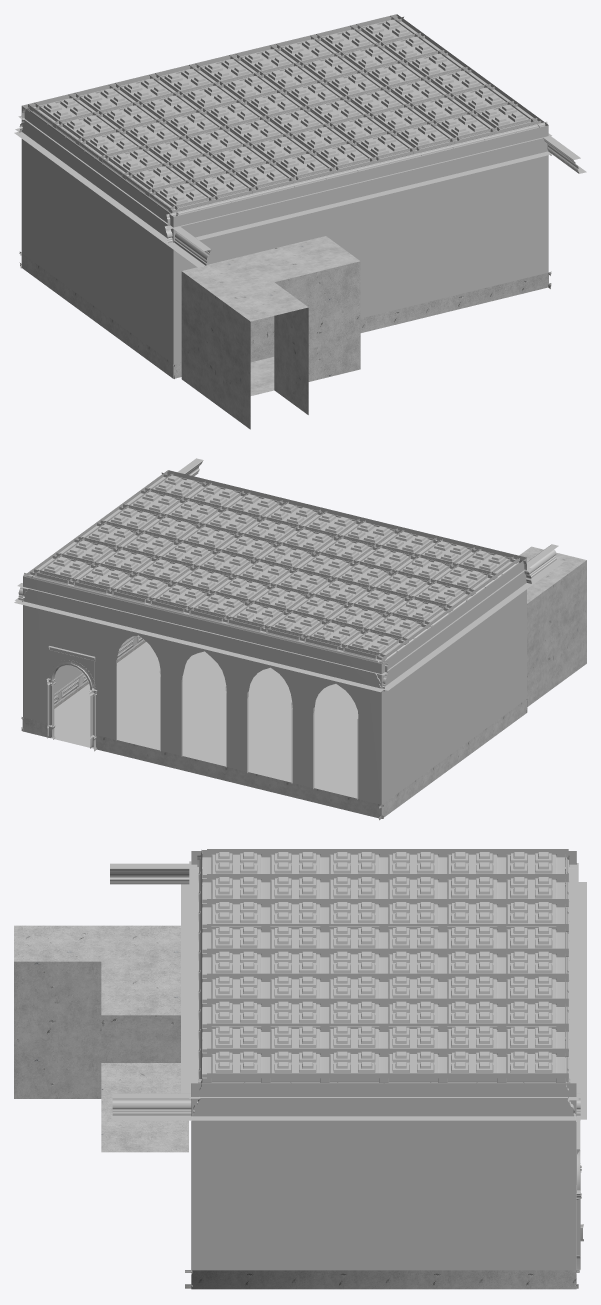
The model's file is backup.fbx.
The picture shows the model from 3 angles, top to bottom: view 1: azimuth 30°, elevation 25°; view 2: azimuth 150°, elevation 25°; view 3: azimuth 270°, elevation 25°; orthographic projection. The views are drawn at different scales.
Parts seen in each view (by area): view 1: LODGroup_1_MainMesh_1_SubMesh_2, LODGroup_1_MainMesh_1_SubMesh_1, LODGroup_1_MainMesh_1_SubMesh_4, LODGroup_1_MainMesh_1_SubMesh_7; view 2: LODGroup_1_MainMesh_1_SubMesh_1, LODGroup_1_MainMesh_1_SubMesh_2, LODGroup_1_MainMesh_1_SubMesh_8, LODGroup_1_MainMesh_1_SubMesh_4, LODGroup_1_MainMesh_1_SubMesh_3, LODGroup_1_MainMesh_1_SubMesh_7, LODGroup_1_MainMesh_1_SubMesh_5, LODGroup_1_MainMesh_1_SubMesh_6, LODGroup_1_MainMesh_1_SubMesh_10; view 3: LODGroup_1_MainMesh_1_SubMesh_1, LODGroup_1_MainMesh_1_SubMesh_2, LODGroup_1_MainMesh_1_SubMesh_4, LODGroup_1_MainMesh_1_SubMesh_7.
Boxes of the visible parts, x1,y1,x2,y2 form: LODGroup_1_MainMesh_1_SubMesh_2: [21, 14, 548, 363]; LODGroup_1_MainMesh_1_SubMesh_1: [22, 14, 547, 225]; LODGroup_1_MainMesh_1_SubMesh_4: [21, 236, 548, 429]; LODGroup_1_MainMesh_1_SubMesh_7: [14, 115, 586, 267]; LODGroup_1_MainMesh_1_SubMesh_1: [23, 471, 526, 672]; LODGroup_1_MainMesh_1_SubMesh_2: [23, 470, 526, 804]; LODGroup_1_MainMesh_1_SubMesh_8: [51, 642, 358, 798]; LODGroup_1_MainMesh_1_SubMesh_4: [22, 546, 586, 818]; LODGroup_1_MainMesh_1_SubMesh_3: [54, 690, 358, 796]; LODGroup_1_MainMesh_1_SubMesh_7: [14, 458, 563, 692]; LODGroup_1_MainMesh_1_SubMesh_5: [21, 583, 529, 820]; LODGroup_1_MainMesh_1_SubMesh_6: [47, 682, 96, 751]; LODGroup_1_MainMesh_1_SubMesh_10: [46, 646, 97, 694]; LODGroup_1_MainMesh_1_SubMesh_1: [197, 849, 570, 1098]; LODGroup_1_MainMesh_1_SubMesh_2: [191, 851, 576, 1270]; LODGroup_1_MainMesh_1_SubMesh_4: [14, 925, 576, 1289]; LODGroup_1_MainMesh_1_SubMesh_7: [110, 861, 586, 1120].
Size of the model in its own units: 2147 by 895 by 2155.
